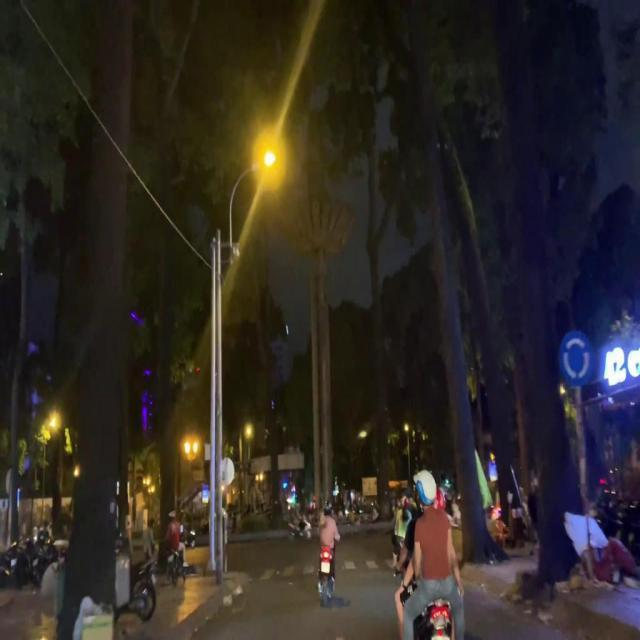303-noi-giao-nhau-chay-theo-vong-xuyen: (558, 329, 596, 386)
